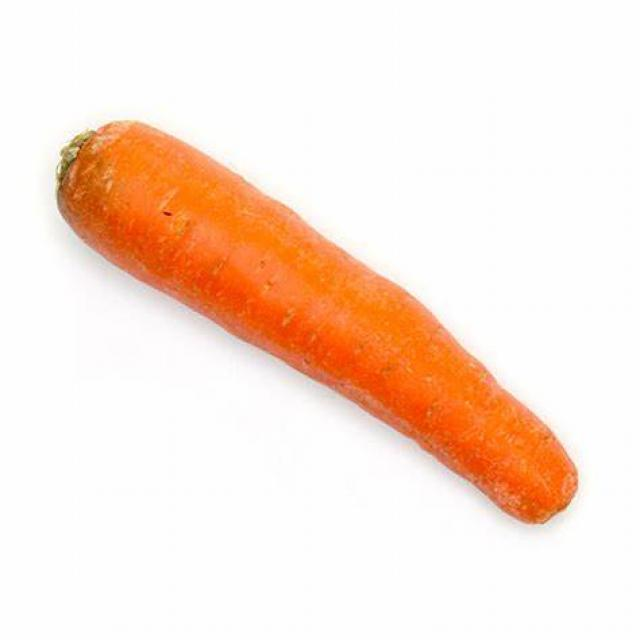Carrot: (53, 113, 578, 528)
